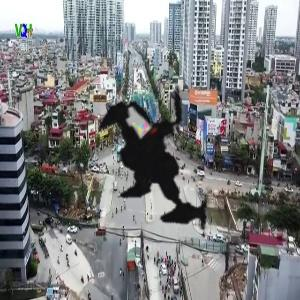drone: (53, 44, 283, 274)
